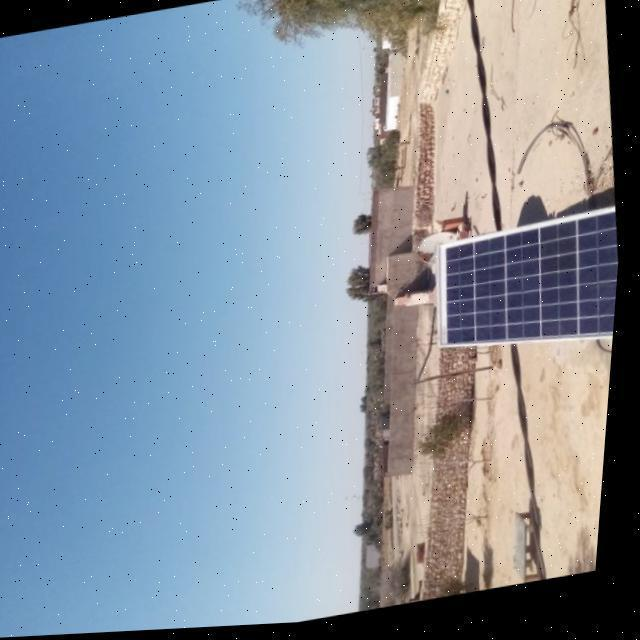Normal Solar Panel: (428, 210, 626, 373)
